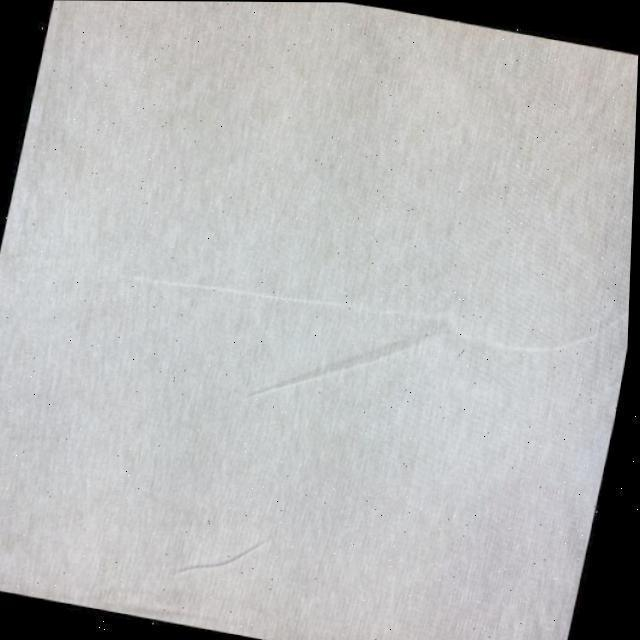pulled_or_thick_thread: (129, 274, 418, 316), (446, 306, 631, 357)
